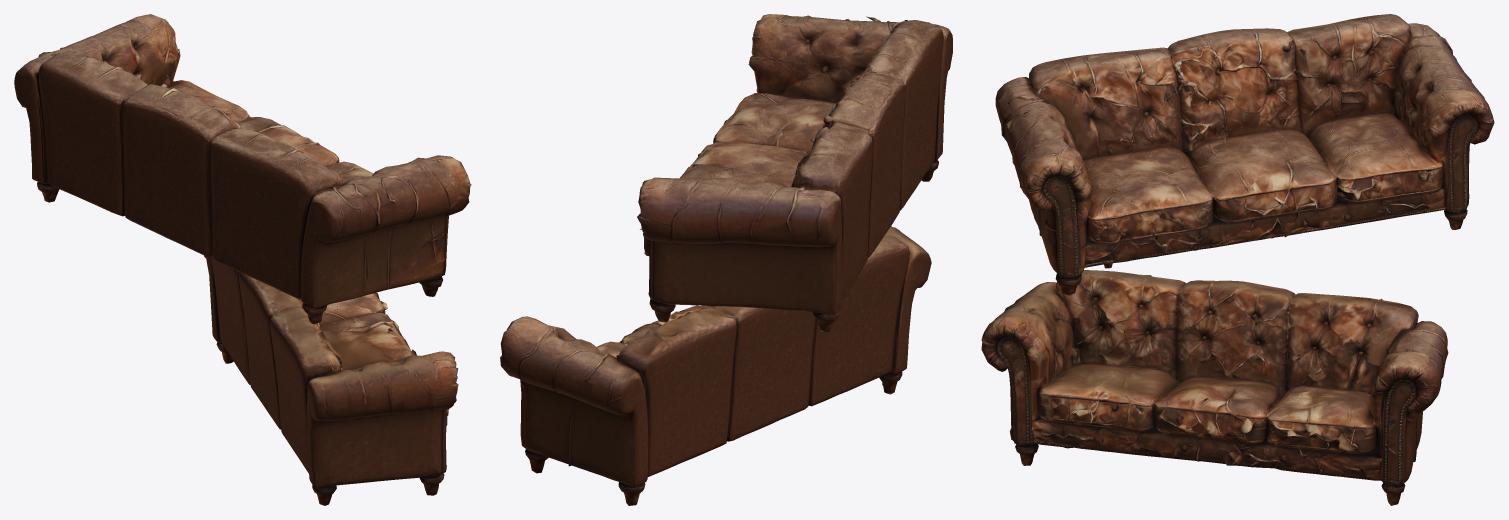
File: scene-sofa-leather-v03.glb
The picture shows the model from 3 angles, left to right: view 1: azimuth 30°, elevation 25°; view 2: azimuth 150°, elevation 25°; view 3: azimuth 270°, elevation 25°; orthographic projection. The views are drawn at different scales.
Visible parts, largest first — view 1: tripo_node_55a95032-2a93-4dbb-87cb-566f2a48686c; view 2: tripo_node_55a95032-2a93-4dbb-87cb-566f2a48686c; view 3: tripo_node_55a95032-2a93-4dbb-87cb-566f2a48686c.
Part boxes in pixels (x1=…): tripo_node_55a95032-2a93-4dbb-87cb-566f2a48686c: x1=14, y1=14, x2=471, y2=505; tripo_node_55a95032-2a93-4dbb-87cb-566f2a48686c: x1=500, y1=14, x2=952, y2=505; tripo_node_55a95032-2a93-4dbb-87cb-566f2a48686c: x1=981, y1=14, x2=1494, y2=505.
Size of the model in its own units: 0.8695 by 0.95 by 1.22.
1 material, 1 textured.
